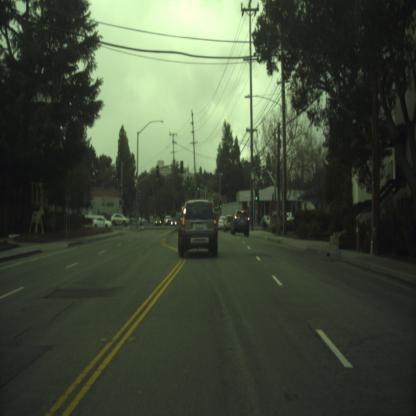Green: (254, 189, 258, 201), (197, 182, 199, 190), (219, 200, 221, 208)
GreenLeft: (188, 182, 190, 189), (119, 200, 121, 207)
